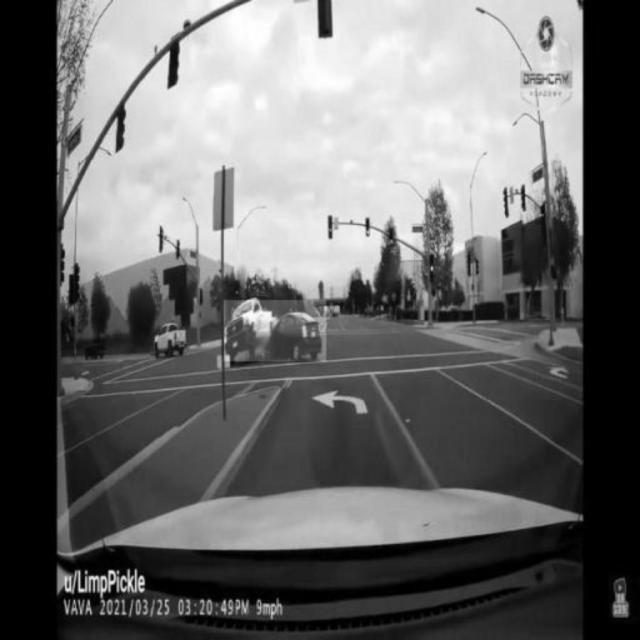accident: (224, 300, 326, 361)
vehicle: (150, 323, 191, 360)
